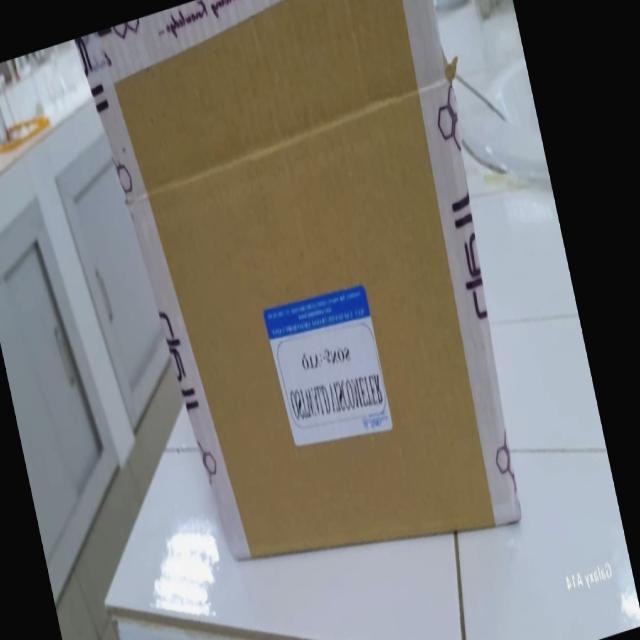Ostwald Viscometer: (160, 172, 520, 598)
